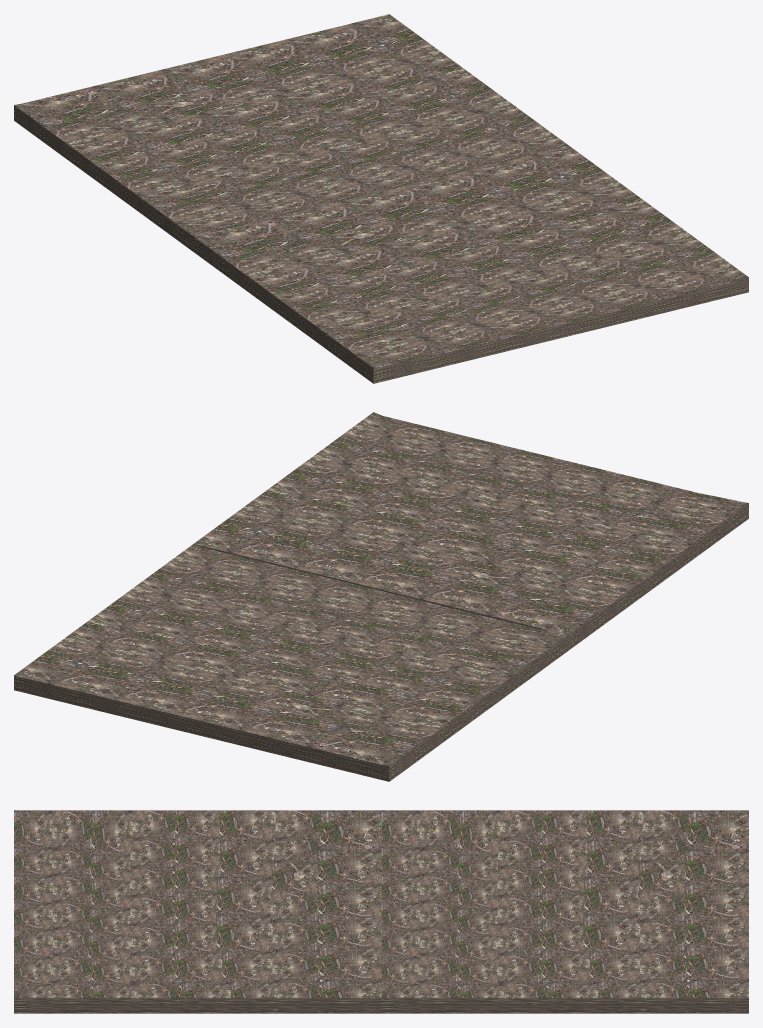
The model's file is 立方体.gltf.
3 views of the same model, one above another, from view 1: azimuth 30°, elevation 25°; view 2: azimuth 150°, elevation 25°; view 3: azimuth 270°, elevation 25° (orthographic). The views are drawn at different scales.
Visible parts, largest first — view 1: 立方体 (×2); view 2: 立方体 (×2); view 3: 立方体 (×2).
Part boxes in pixels (left/top/right/bottom): 立方体 (×2): left=14, top=14, right=748, bottom=383; 立方体 (×2): left=14, top=412, right=748, bottom=781; 立方体 (×2): left=14, top=810, right=748, bottom=1013.
Size of the model in its own units: 20 by 0.7925 by 33.19.
Materials: 2 (2 with a texture image).
